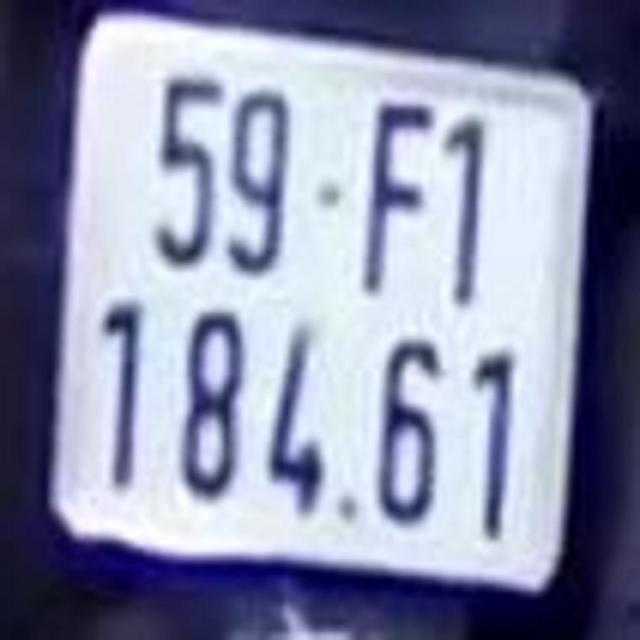1: (94, 298, 145, 489), (466, 343, 513, 539), (442, 108, 485, 303)
4: (264, 313, 327, 511)
5: (152, 68, 222, 262)
6: (375, 332, 448, 524)
8: (174, 300, 245, 498)
9: (227, 85, 290, 278)
F: (357, 96, 439, 298)
